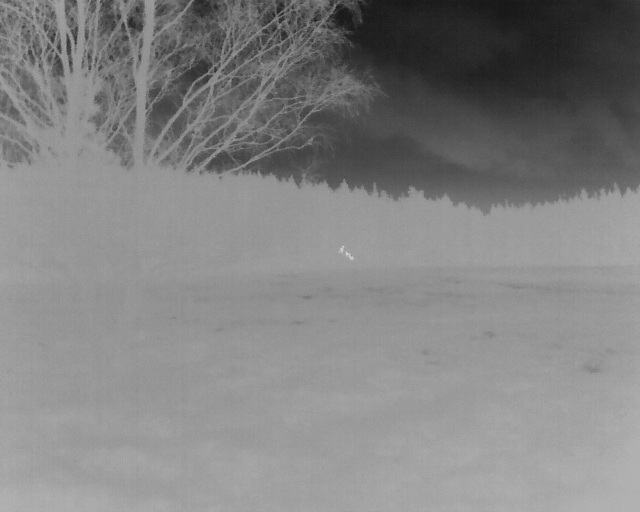Deer: (348, 255, 354, 261), (346, 251, 352, 256), (340, 245, 344, 250), (338, 250, 344, 253)
